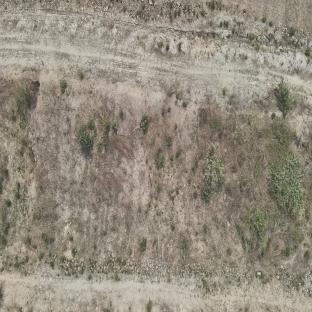rock_toe: (0, 253, 311, 295)
toe_drain: (274, 151, 304, 221)
vegetation: (194, 115, 226, 217), (234, 206, 270, 256), (74, 116, 110, 157)
